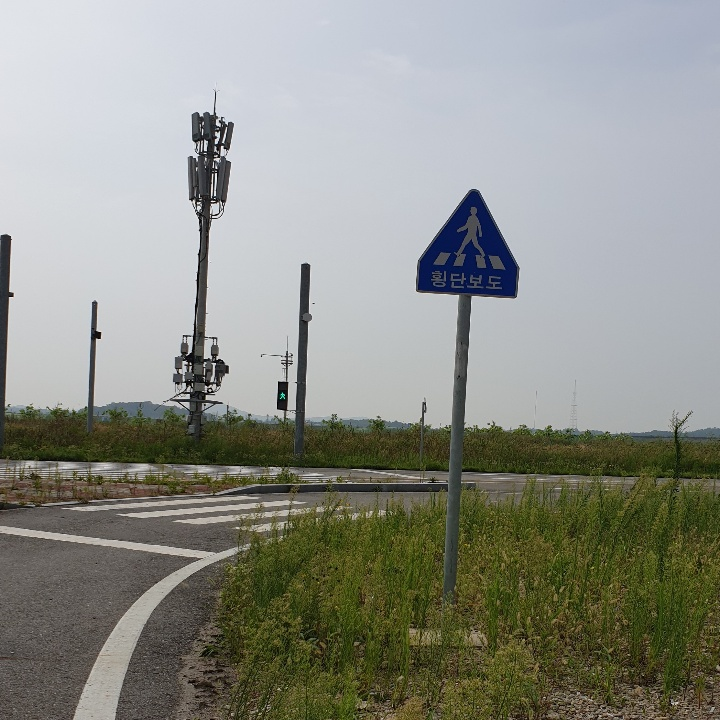cross: (449, 200, 493, 262)
